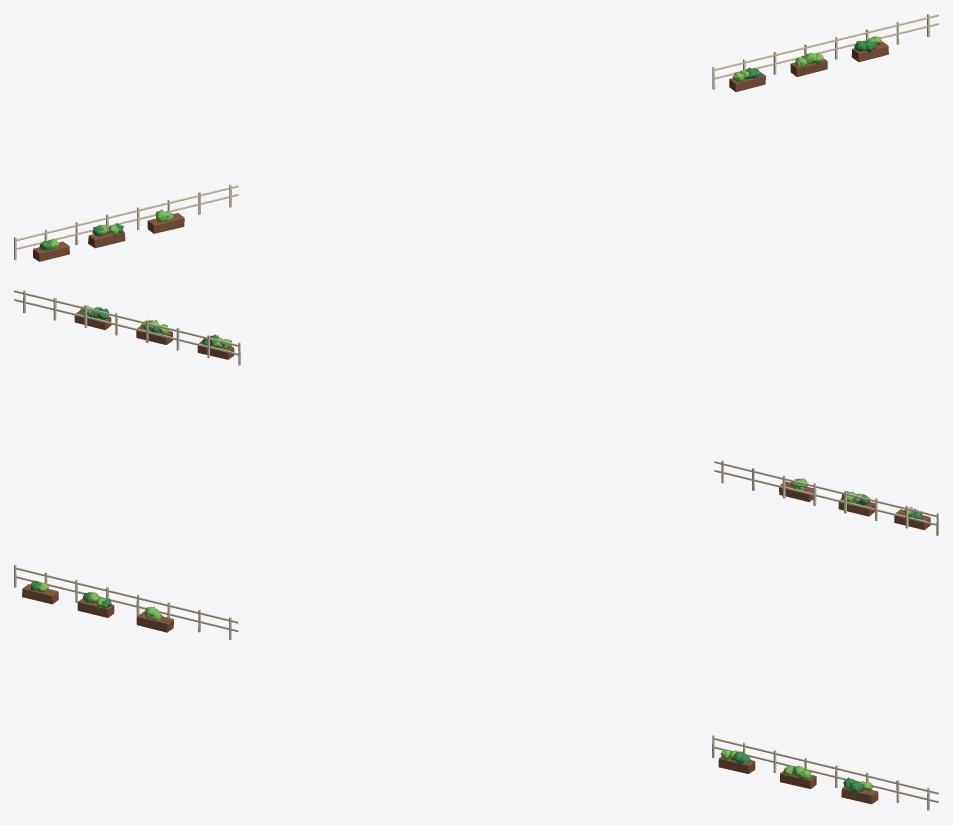
Rendered from fences_planters.glb.
The picture shows the model from 3 angles, top to bottom: view 1: azimuth 30°, elevation 25°; view 2: azimuth 150°, elevation 25°; view 3: azimuth 330°, elevation 25°; orthographic projection.
Visible parts, largest first — view 1: frail.003, frail.001; view 2: frail.003, frail.002, frail.001, frail; view 3: frail.003, frail.001.
Boxes of the visible parts, x1,y1,x2,y2 form: frail.003: (714, 14, 938, 70); frail.001: (16, 185, 238, 240); frail.003: (14, 290, 238, 346); frail.002: (14, 298, 238, 355); frail.001: (714, 461, 936, 517); frail: (714, 469, 936, 525); frail.003: (714, 737, 938, 794); frail.001: (15, 567, 238, 623).
Bounding box in the file's own units: 45.15 × 1.06 × 0.8905.
